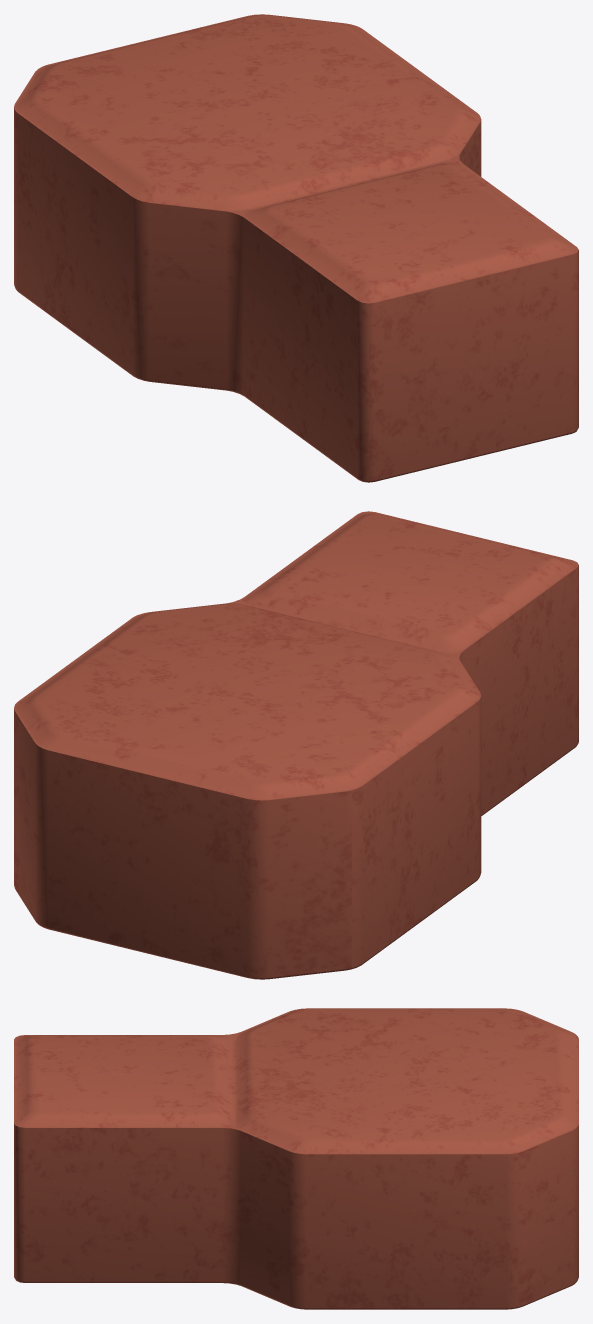
File: banjo-red.glb
3 renders of one model, top to bottom at view 1: azimuth 30°, elevation 25°; view 2: azimuth 150°, elevation 25°; view 3: azimuth 270°, elevation 25°, orthographic. The views are drawn at different scales.
Visible parts, largest first — view 1: Banjo; view 2: Banjo; view 3: Banjo.
Boxes of the visible parts, left/top/right/bottom form: Banjo: left=14, top=14, right=578, bottom=482; Banjo: left=14, top=511, right=578, bottom=979; Banjo: left=14, top=1008, right=578, bottom=1309.
Bounding box in the file's own units: 0.1397 × 0.073 × 0.2286.
Materials: 1 (1 with a texture image).
